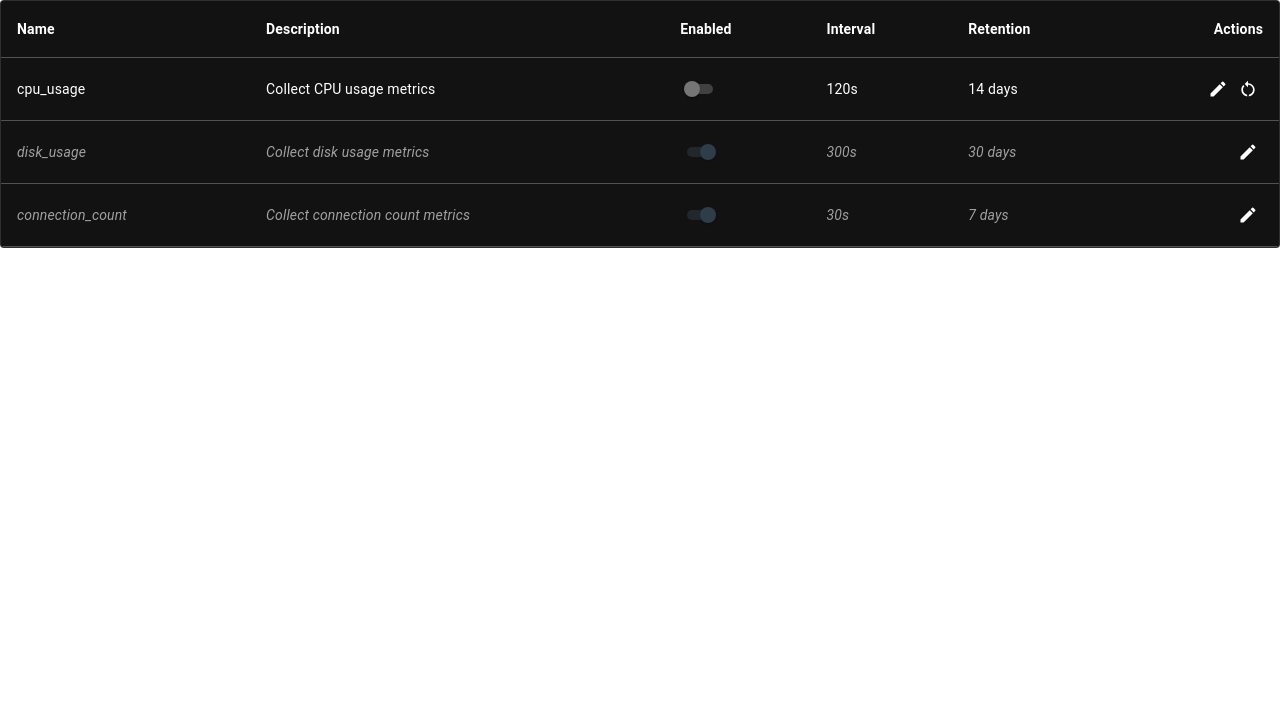
Scenario: ProbeOverridesPanel › edit button opens dialog with pre-populated values
Check: the text "cpu_usage" is shown, box [1, 58, 250, 120]
Click the button named "edit override" in the row of "cpu_usage": (1218, 89) [1203, 74, 1233, 104]
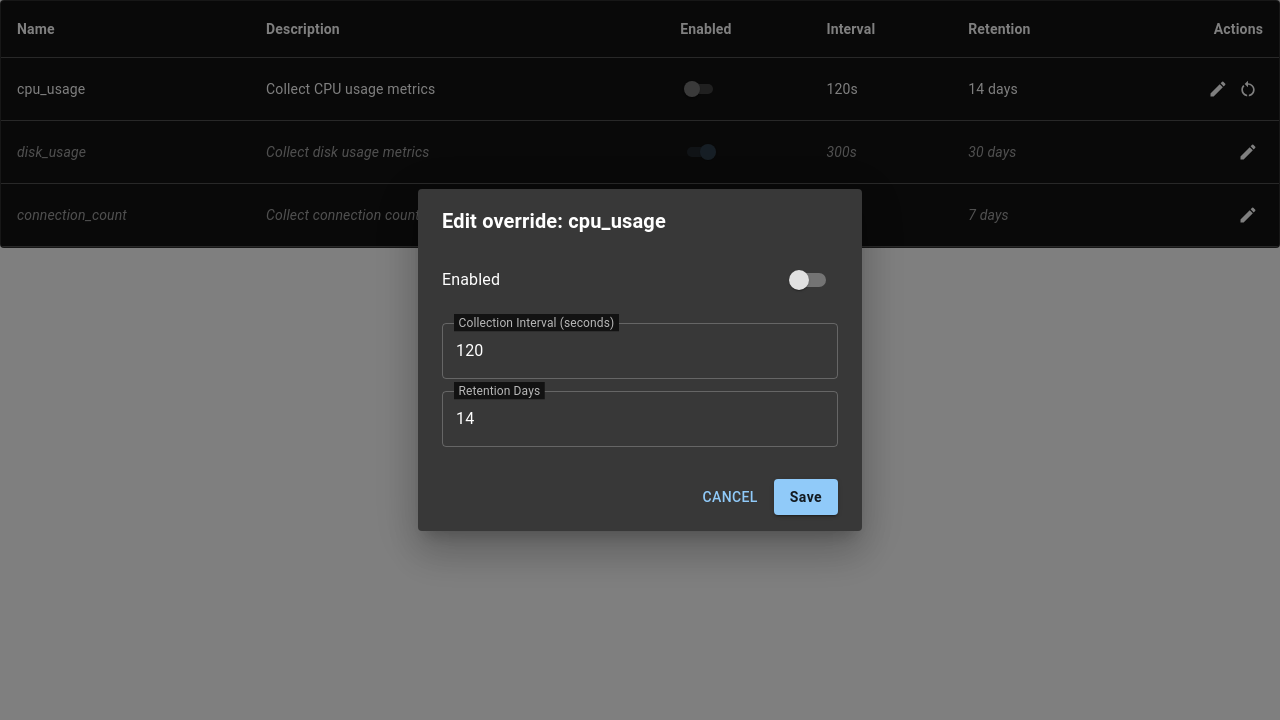
Check: the heading "Edit override: cpu_usage" is shown, box [442, 209, 666, 233]
Check: the number field labelled "Collection Interval (seconds)" holds "120", box [442, 323, 838, 379]
Check: the number field labelled "Retention Days" holds "14", box [442, 391, 838, 447]
